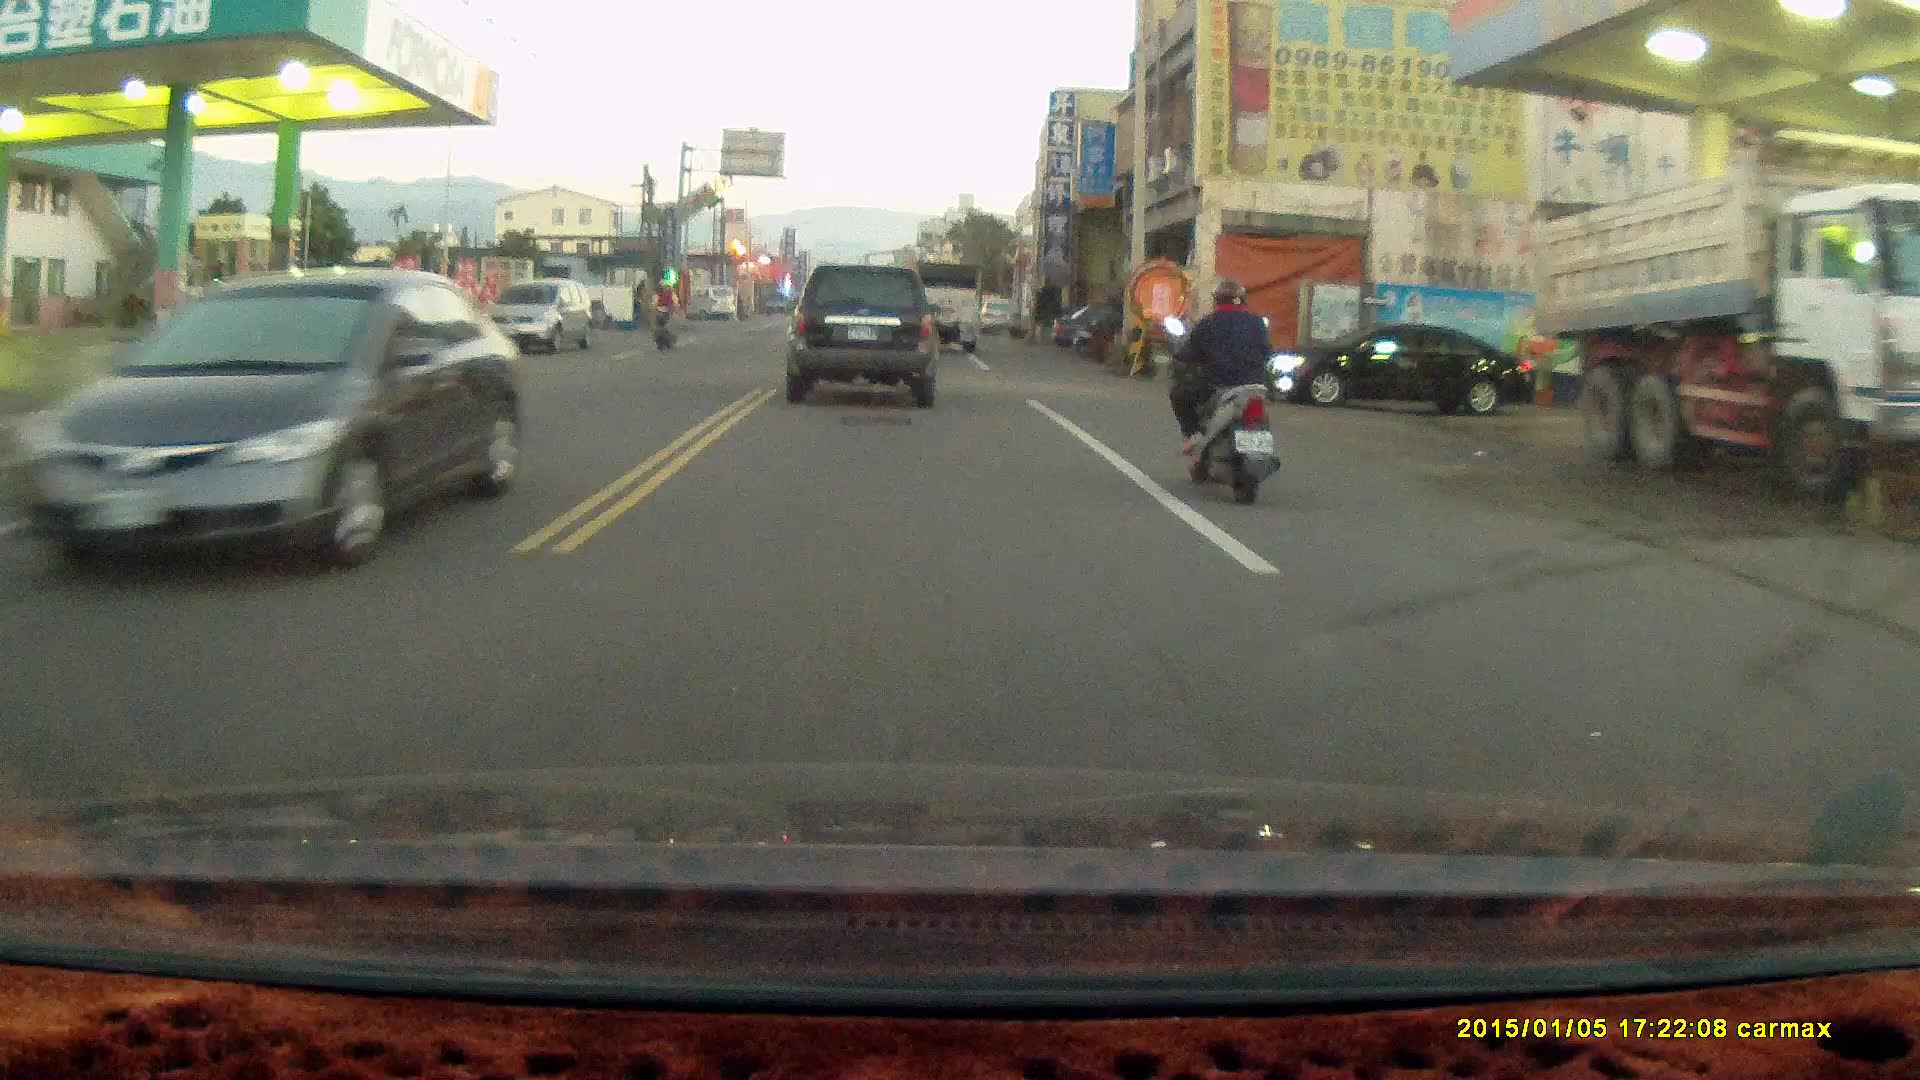rider: (1160, 275, 1279, 506), (643, 278, 677, 353)
vehicle: (12, 268, 518, 576), (1530, 127, 1920, 487), (1277, 324, 1541, 418), (789, 263, 940, 411), (477, 276, 593, 361), (908, 261, 983, 352)
